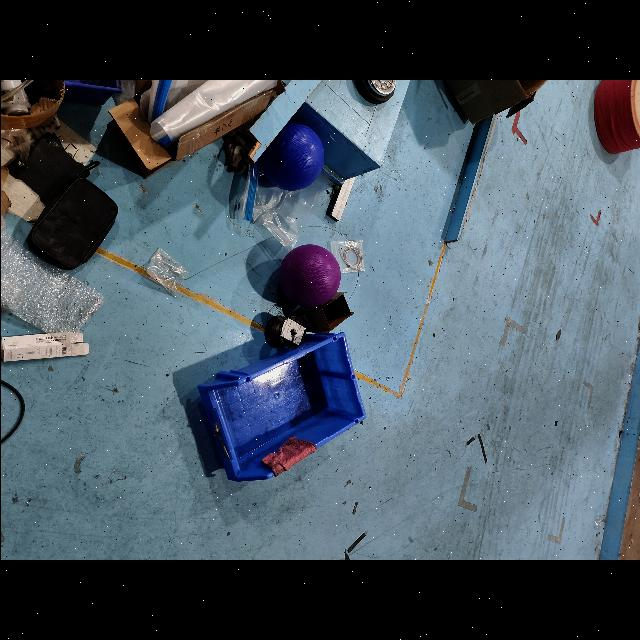B: (252, 120, 322, 190)
P: (275, 243, 343, 309)
